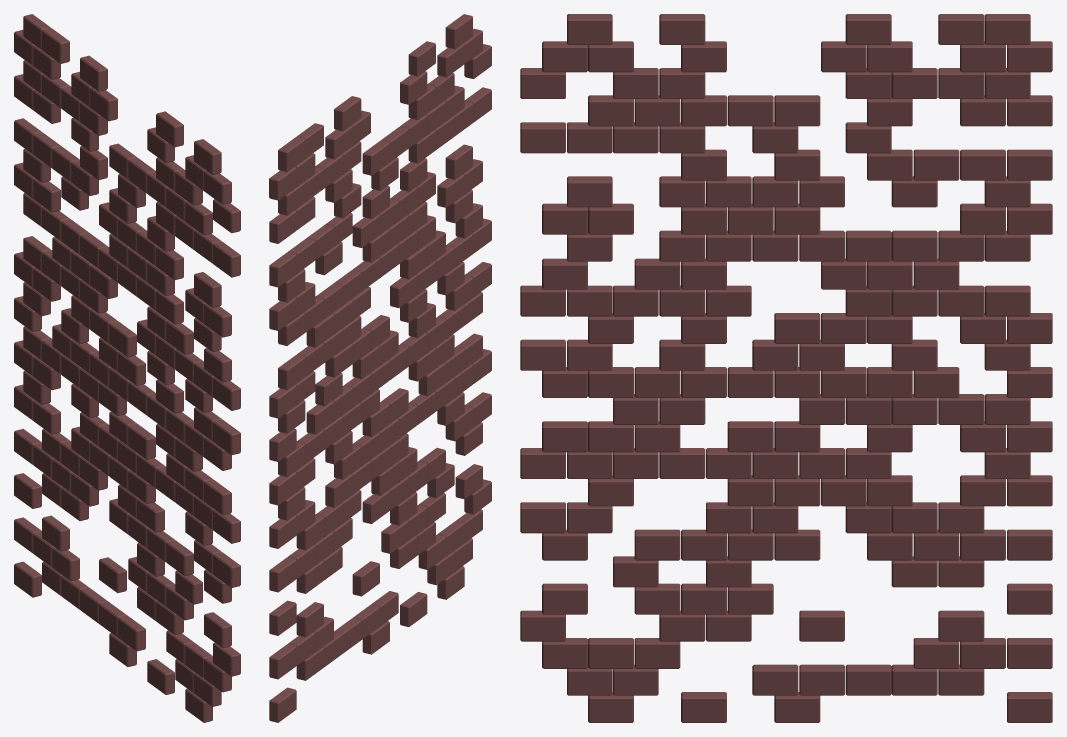
The model's file is Pared_Ladrillos_01.fbx.
3 renders of one model, left to right at view 1: azimuth 30°, elevation 25°; view 2: azimuth 150°, elevation 25°; view 3: azimuth 270°, elevation 25°, orthographic. The views are drawn at different scales.
Visible parts, largest first — view 1: Losa_0755, Losa_0685, Losa_0598, Losa_0706, Losa_0656, Losa_0643, Losa_0607, Losa_0597, Losa_0550, Losa_0466, Losa_0460, Losa_0672 (+167 smaller); view 2: Losa_0466, Losa_0460, Losa_0757, Losa_0756, Losa_0755, Losa_0747, Losa_0685, Losa_0754, Losa_0706, Losa_0658, Losa_0653, Losa_0574 (+167 smaller); view 3: Losa_0653, Losa_0598, Losa_0557, Losa_0529, Losa_0460, Losa_0741, Losa_0739, Losa_0682, Losa_0452, Losa_0733, Losa_0581, Losa_0754 (+167 smaller).
Part boxes in pixels (left/top/right/bottom): Losa_0755: left=14, top=473, right=41, bottom=508; Losa_0685: left=194, top=272, right=221, bottom=307; Losa_0598: left=128, top=423, right=155, bottom=459; Losa_0706: left=80, top=55, right=107, bottom=91; Losa_0656: left=194, top=139, right=221, bottom=174; Losa_0643: left=109, top=321, right=136, bottom=357; Losa_0607: left=204, top=479, right=231, bottom=515; Losa_0597: left=213, top=552, right=240, bottom=587; Losa_0550: left=147, top=659, right=174, bottom=694; Losa_0466: left=99, top=557, right=126, bottom=593; Losa_0460: left=42, top=515, right=69, bottom=551; Losa_0672: left=213, top=241, right=240, bottom=277; Losa_0466: left=352, top=561, right=379, bottom=596; Losa_0460: left=296, top=602, right=323, bottom=637; Losa_0757: left=269, top=687, right=296, bottom=722; Losa_0756: left=269, top=644, right=296, bottom=679; Losa_0755: left=269, top=600, right=296, bottom=635; Losa_0747: left=269, top=252, right=296, bottom=287; Losa_0685: left=445, top=144, right=472, bottom=179; Losa_0754: left=269, top=557, right=296, bottom=592; Losa_0706: left=334, top=96, right=361, bottom=131; Losa_0658: left=408, top=41, right=435, bottom=76; Losa_0653: left=362, top=140, right=389, bottom=175; Losa_0574: left=455, top=464, right=482, bottom=499; Losa_0653: left=774, top=95, right=820, bottom=126; Losa_0598: left=727, top=421, right=773, bottom=452; Losa_0557: left=752, top=664, right=798, bottom=695; Losa_0529: left=984, top=285, right=1030, bottom=316; Losa_0460: left=938, top=610, right=984, bottom=641; Losa_0741: left=891, top=230, right=937, bottom=261; Losa_0739: left=845, top=230, right=891, bottom=261; Losa_0682: left=727, top=95, right=773, bottom=126; Losa_0452: left=845, top=664, right=891, bottom=695; Losa_0733: left=913, top=149, right=959, bottom=180; Losa_0581: left=634, top=529, right=680, bottom=560; Losa_0754: left=1007, top=529, right=1052, bottom=560.
Bounding box in the file's own units: 0.3387 × 18.07 × 12.39.
